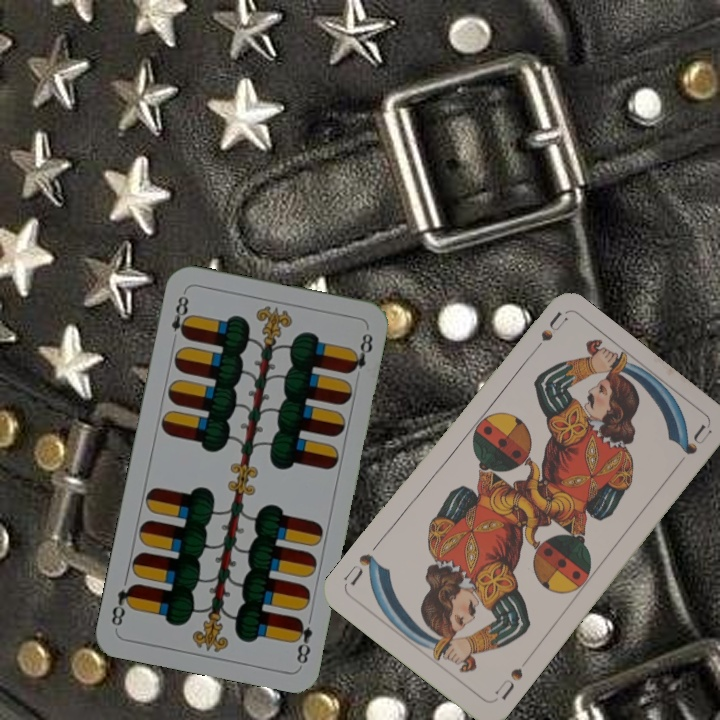E8: (289, 613, 315, 667), (167, 288, 193, 341)
SU: (523, 309, 570, 361), (490, 664, 526, 703)
